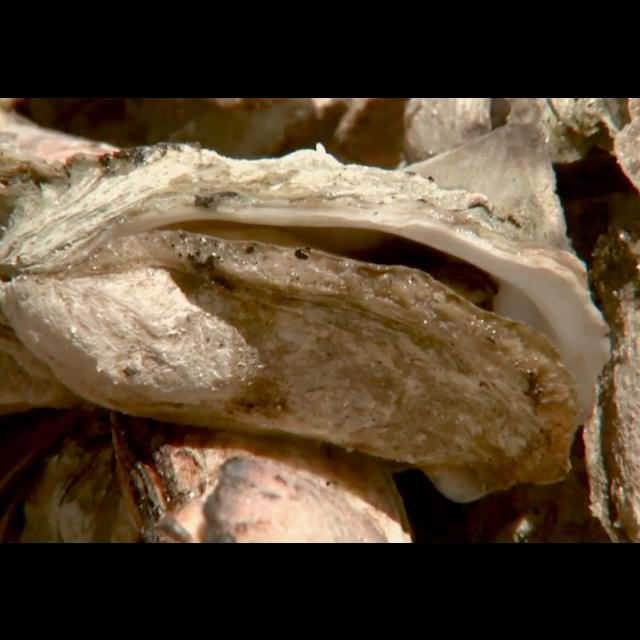Oyster-Closed: (108, 406, 418, 542)
Oyster-Open: (1, 142, 612, 502)
